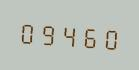four: (58, 19, 77, 50)
nine: (38, 17, 57, 49)
six: (78, 20, 97, 51)
zero: (18, 16, 37, 47), (98, 22, 117, 53)
